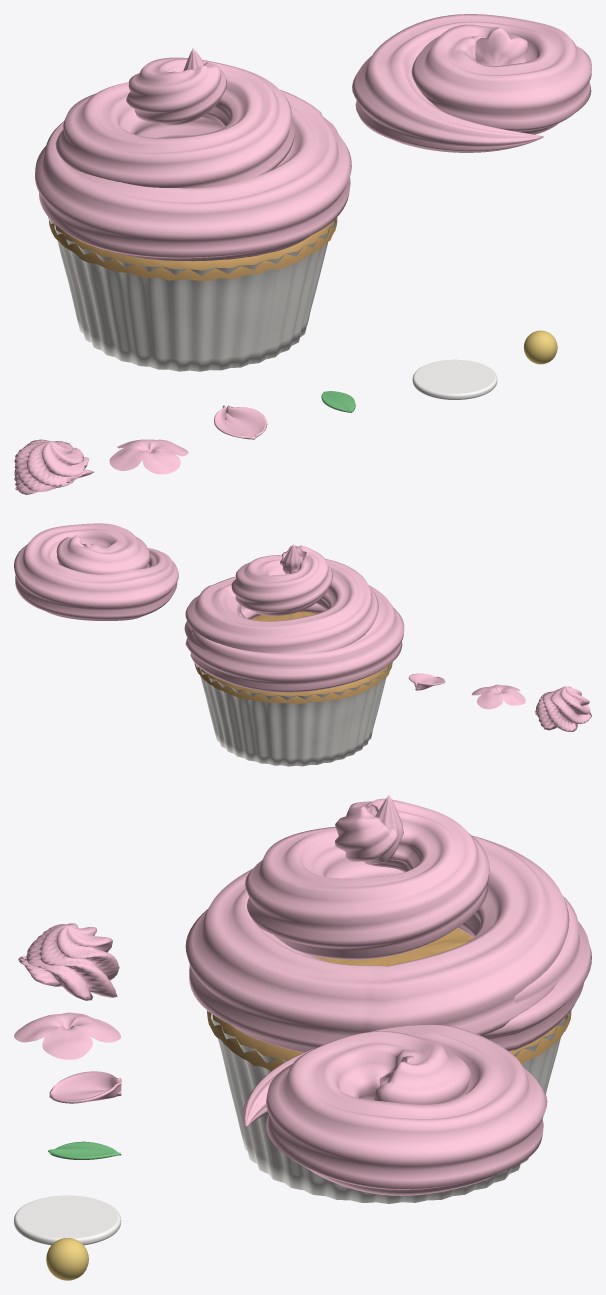
Rendered from cupcake.glb.
3 renders of one model, top to bottom at view 1: azimuth 30°, elevation 25°; view 2: azimuth 150°, elevation 25°; view 3: azimuth 270°, elevation 25°, orthographic. The views are drawn at different scales.
Parts seen in each view (by area): view 1: frost_swirl, frost_rosette, liner, cake_top, bloom, plaque, floret, petal, pearl_cc; view 2: frost_swirl, frost_rosette, liner, cake_top, bloom, floret, petal; view 3: frost_swirl, frost_rosette, liner, bloom, plaque, cake_top, floret, petal, pearl_cc, leaf.
Boxes of the visible parts, bbox=[...] form: frost_swirl: bbox=[35, 48, 351, 261]; frost_rosette: bbox=[352, 14, 591, 152]; liner: bbox=[48, 217, 336, 371]; cake_top: bbox=[49, 217, 337, 280]; bloom: bbox=[14, 439, 93, 494]; plaque: bbox=[412, 359, 497, 399]; floret: bbox=[109, 439, 188, 474]; petal: bbox=[214, 405, 267, 439]; pearl_cc: bbox=[523, 330, 557, 364]; frost_swirl: bbox=[184, 544, 404, 692]; frost_rosette: bbox=[14, 523, 178, 620]; liner: bbox=[195, 663, 391, 766]; cake_top: bbox=[194, 611, 392, 704]; bloom: bbox=[534, 686, 591, 731]; floret: bbox=[471, 684, 525, 709]; petal: bbox=[408, 673, 445, 690]; frost_swirl: bbox=[185, 795, 591, 1052]; frost_rosette: bbox=[242, 1024, 547, 1195]; liner: bbox=[207, 1009, 571, 1203]; bloom: bbox=[18, 923, 119, 1000]; plaque: bbox=[14, 1195, 121, 1245]; cake_top: bbox=[207, 928, 571, 1071]; floret: bbox=[14, 1012, 120, 1059]; petal: bbox=[49, 1071, 121, 1103]; pearl_cc: bbox=[46, 1238, 88, 1280]; leaf: bbox=[48, 1141, 121, 1159].
Bounding box in the file's own units: 5.65 × 2.23 × 3.24.
